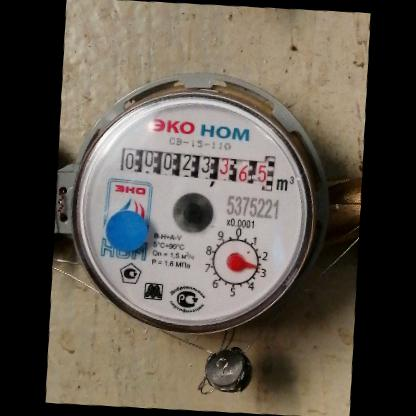digital_screen: (116, 141, 221, 187)
